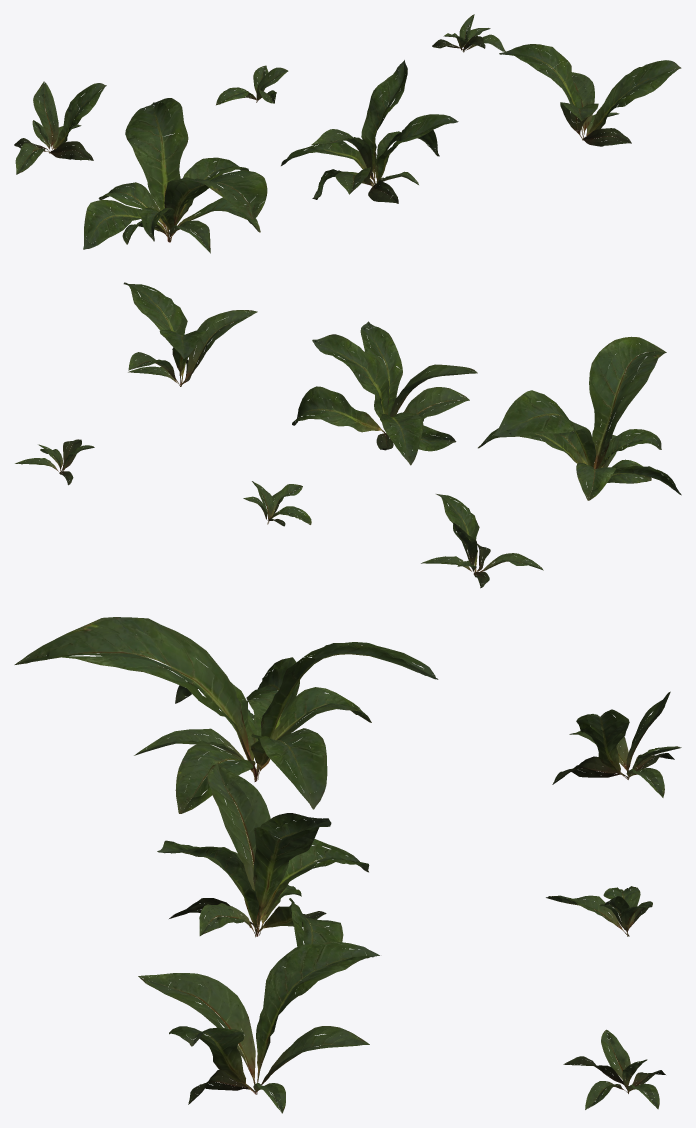
The model's file is anthurium_botany_01.glb.
The picture shows the model from 3 angles, top to bottom: view 1: azimuth 30°, elevation 25°; view 2: azimuth 150°, elevation 25°; view 3: azimuth 270°, elevation 25°; orthographic projection. The views are drawn at different scales.
Parts seen in each view (by area): view 1: anthurium_botany_01_a, anthurium_botany_01_b, anthurium_botany_01_c, anthurium_botany_04_d, anthurium_botany_05_e, anthurium_botany_06_f; view 2: anthurium_botany_01_a, anthurium_botany_01_b, anthurium_botany_01_c, anthurium_botany_04_d, anthurium_botany_05_e, anthurium_botany_06_f; view 3: anthurium_botany_01_a, anthurium_botany_01_b, anthurium_botany_01_c, anthurium_botany_04_d, anthurium_botany_06_f, anthurium_botany_05_e.
Part boxes in pixels (left/top/right/bottom): anthurium_botany_01_a: left=83, top=98, right=267, bottom=253; anthurium_botany_01_b: left=281, top=60, right=458, bottom=203; anthurium_botany_01_c: left=499, top=44, right=681, bottom=146; anthurium_botany_04_d: left=14, top=81, right=106, bottom=174; anthurium_botany_05_e: left=216, top=65, right=288, bottom=105; anthurium_botany_06_f: left=432, top=14, right=505, bottom=52; anthurium_botany_01_a: left=478, top=336, right=681, bottom=500; anthurium_botany_01_b: left=292, top=321, right=477, bottom=465; anthurium_botany_01_c: left=123, top=282, right=257, bottom=386; anthurium_botany_04_d: left=421, top=494, right=543, bottom=588; anthurium_botany_05_e: left=243, top=481, right=311, bottom=526; anthurium_botany_06_f: left=15, top=439, right=94, bottom=485; anthurium_botany_01_a: left=14, top=617, right=438, bottom=813; anthurium_botany_01_b: left=157, top=763, right=369, bottom=981; anthurium_botany_01_c: left=138, top=941, right=379, bottom=1113; anthurium_botany_04_d: left=552, top=691, right=681, bottom=797; anthurium_botany_06_f: left=563, top=1029, right=665, bottom=1109; anthurium_botany_05_e: left=546, top=886, right=652, bottom=936.
Size of the model in its own units: 2.8 by 0.5009 by 1.8.
Materials: 1 (1 with a texture image).
